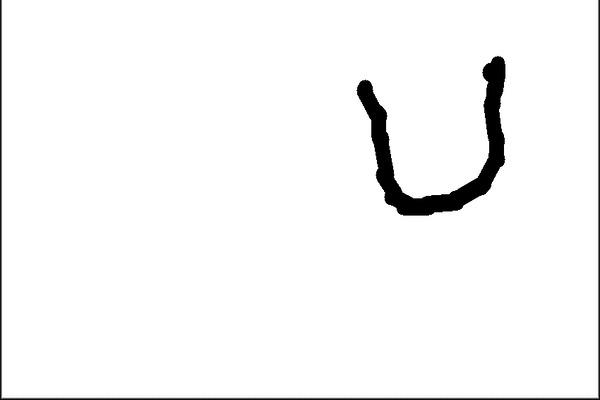U: (334, 45, 512, 222)
